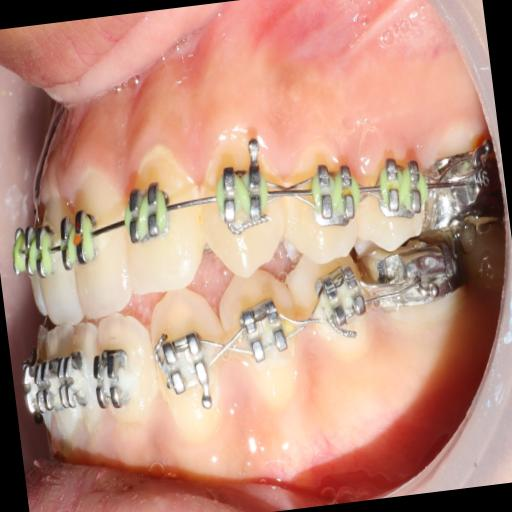correct_brace: (284, 151, 365, 264), (211, 153, 273, 230), (122, 180, 180, 249), (56, 206, 102, 274)
incorrect_brace: (118, 146, 208, 292), (300, 151, 363, 226)
